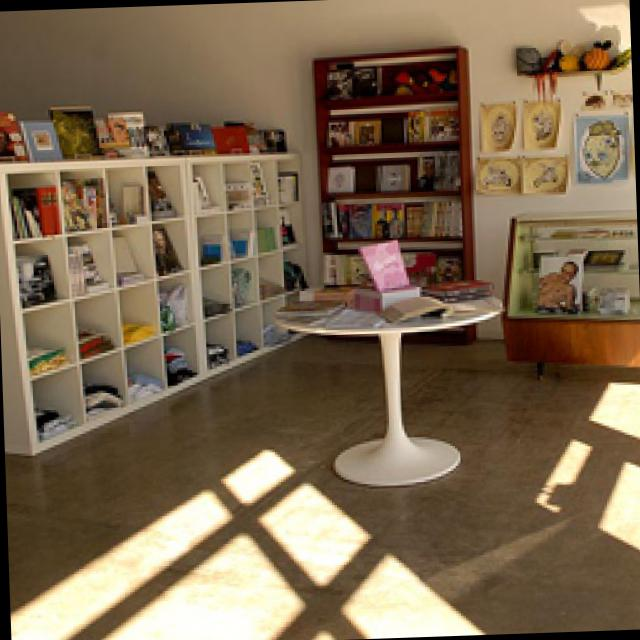book case: (50, 105, 99, 154), (15, 118, 62, 158), (275, 298, 344, 315)
books crop: (323, 198, 457, 237), (10, 183, 59, 232), (421, 275, 492, 301), (8, 193, 39, 238)
decoration -X: (510, 35, 624, 73)
floor -X: (7, 333, 640, 640)
furniture crop: (500, 207, 637, 378)
picture crop: (573, 111, 625, 181)
shelves crop: (0, 148, 310, 453), (311, 43, 476, 345)
table -X: (272, 284, 497, 485)
wall clock: (0, 1, 306, 455), (294, 0, 636, 336)
